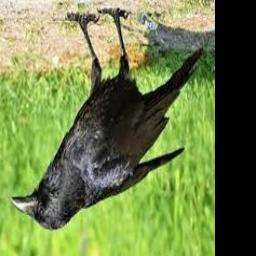Crow: (7, 7, 203, 231)
